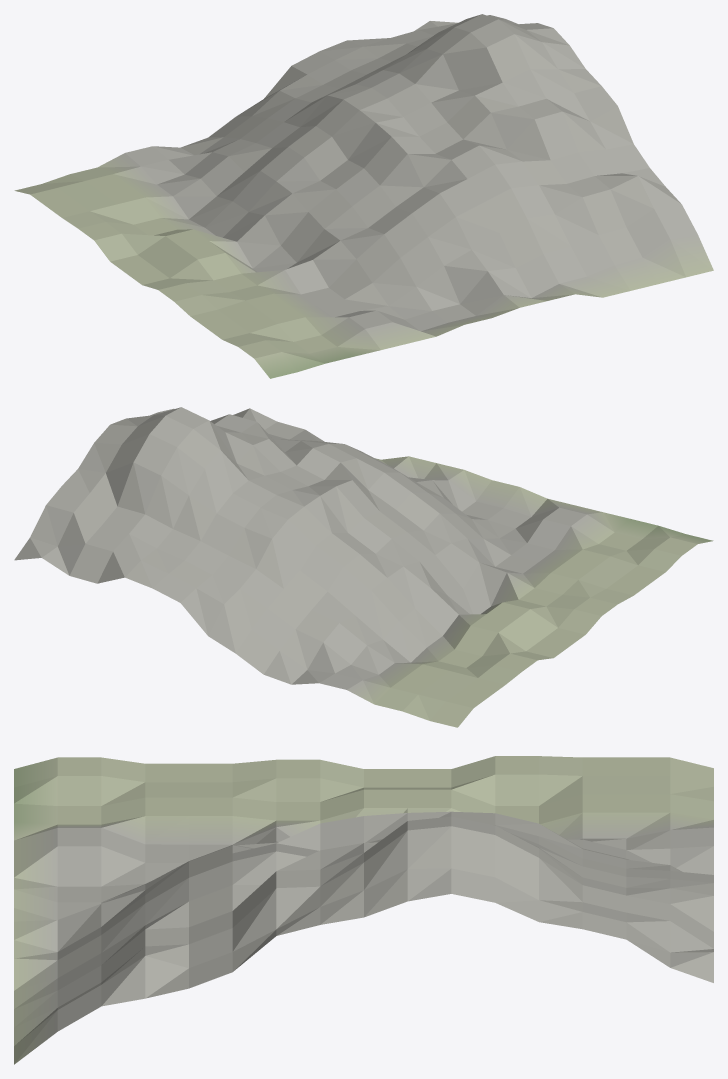
3 renders of one model, top to bottom at view 1: azimuth 30°, elevation 25°; view 2: azimuth 150°, elevation 25°; view 3: azimuth 270°, elevation 25°, orthographic. The views are drawn at different scales.
Size of the model in its own units: 32 by 10.91 by 32.
